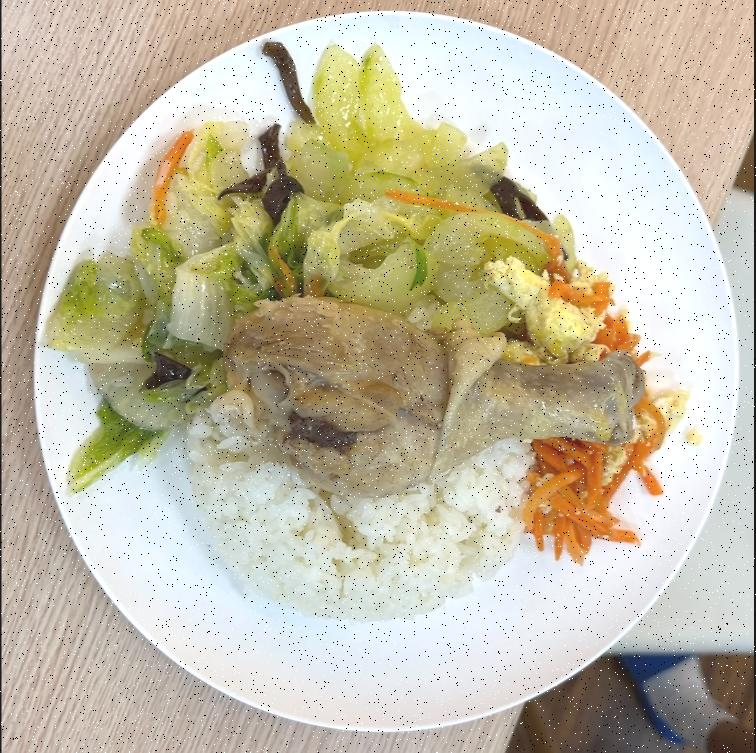plate: (32, 0, 736, 745)
side dish: (256, 44, 564, 330), (56, 122, 255, 502), (502, 258, 676, 549)
small herbal chicken leg: (220, 290, 642, 500)
white rice: (189, 383, 530, 627)
